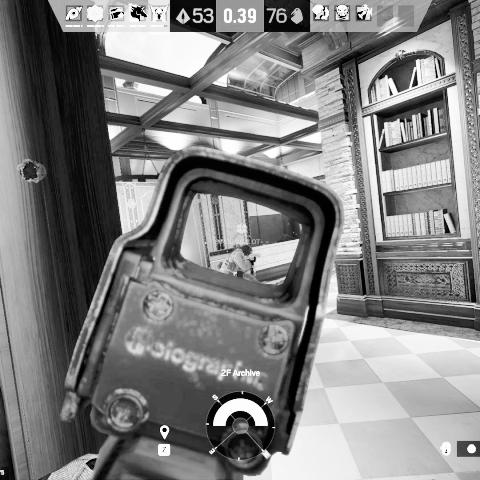Character: (217, 243, 259, 283)
Friend_label: (215, 222, 270, 246)
Head: (241, 244, 253, 256)
